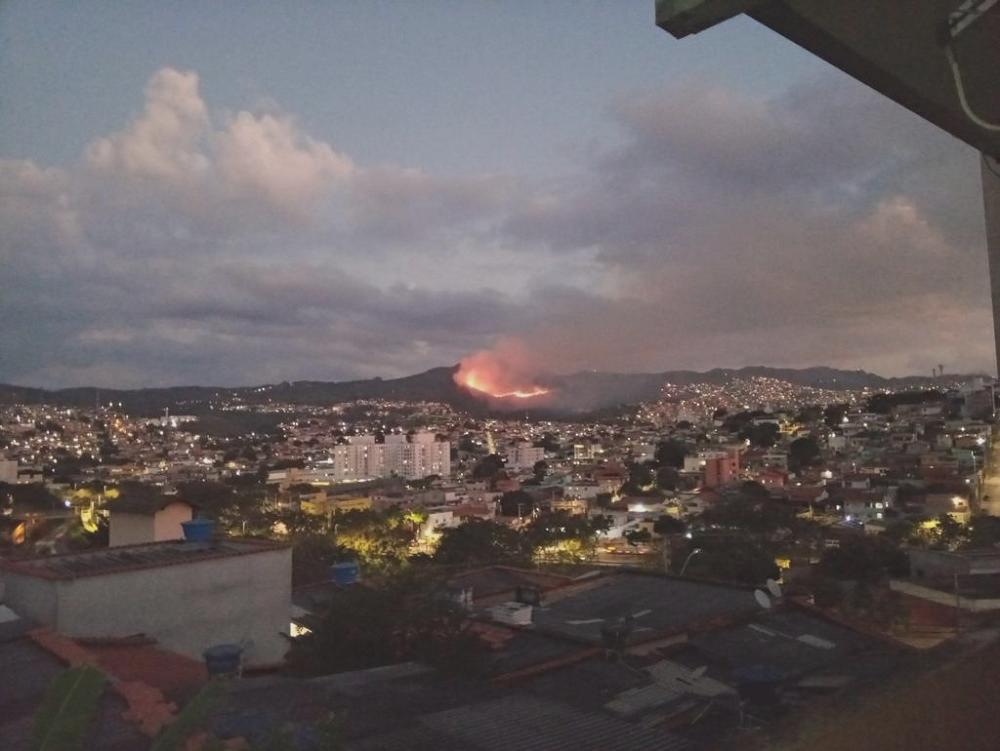Fire: (493, 388, 548, 399), (465, 374, 487, 393)
